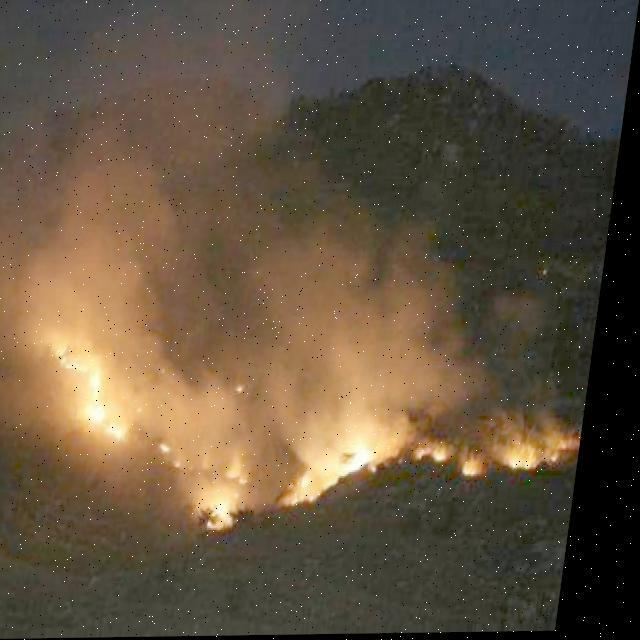Fire: (48, 318, 166, 450), (290, 438, 390, 522), (189, 440, 268, 532), (426, 436, 564, 484)
